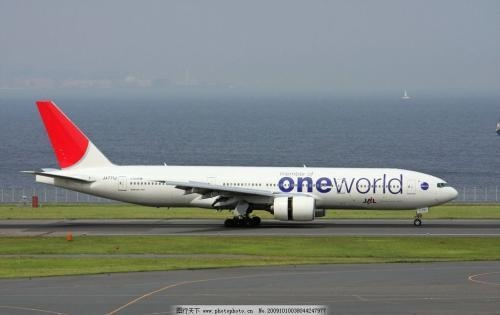airplane: (24, 96, 459, 227)
